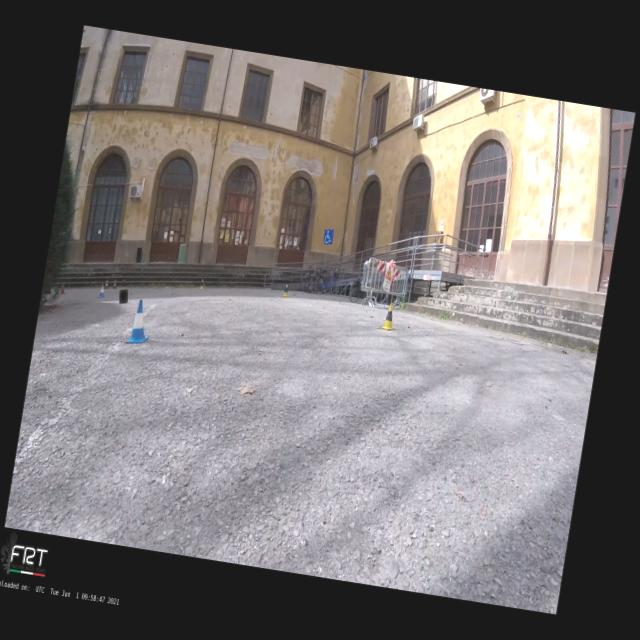blue_cone: (126, 299, 154, 347), (98, 282, 108, 299)
large_orange_cone: (104, 278, 110, 290), (112, 278, 118, 289)
unknown_cone: (117, 288, 129, 306), (59, 282, 68, 296)
yellow_cone: (380, 302, 399, 332), (282, 284, 290, 298), (199, 278, 206, 290)
